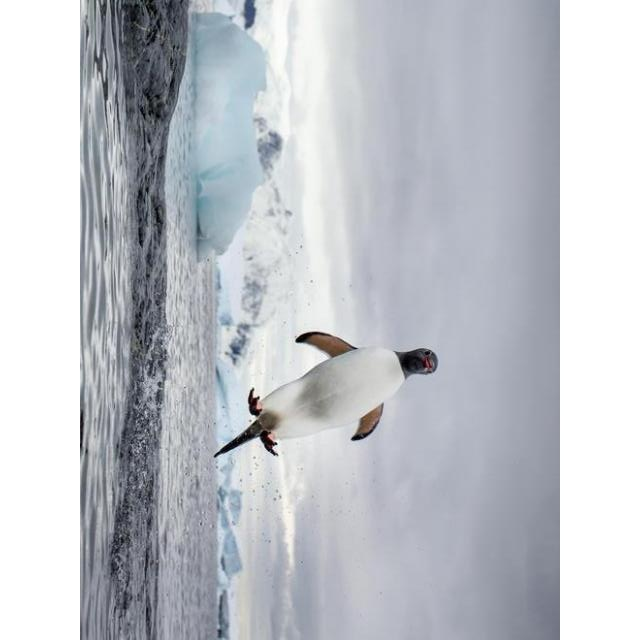penguin: (212, 332, 439, 461)
